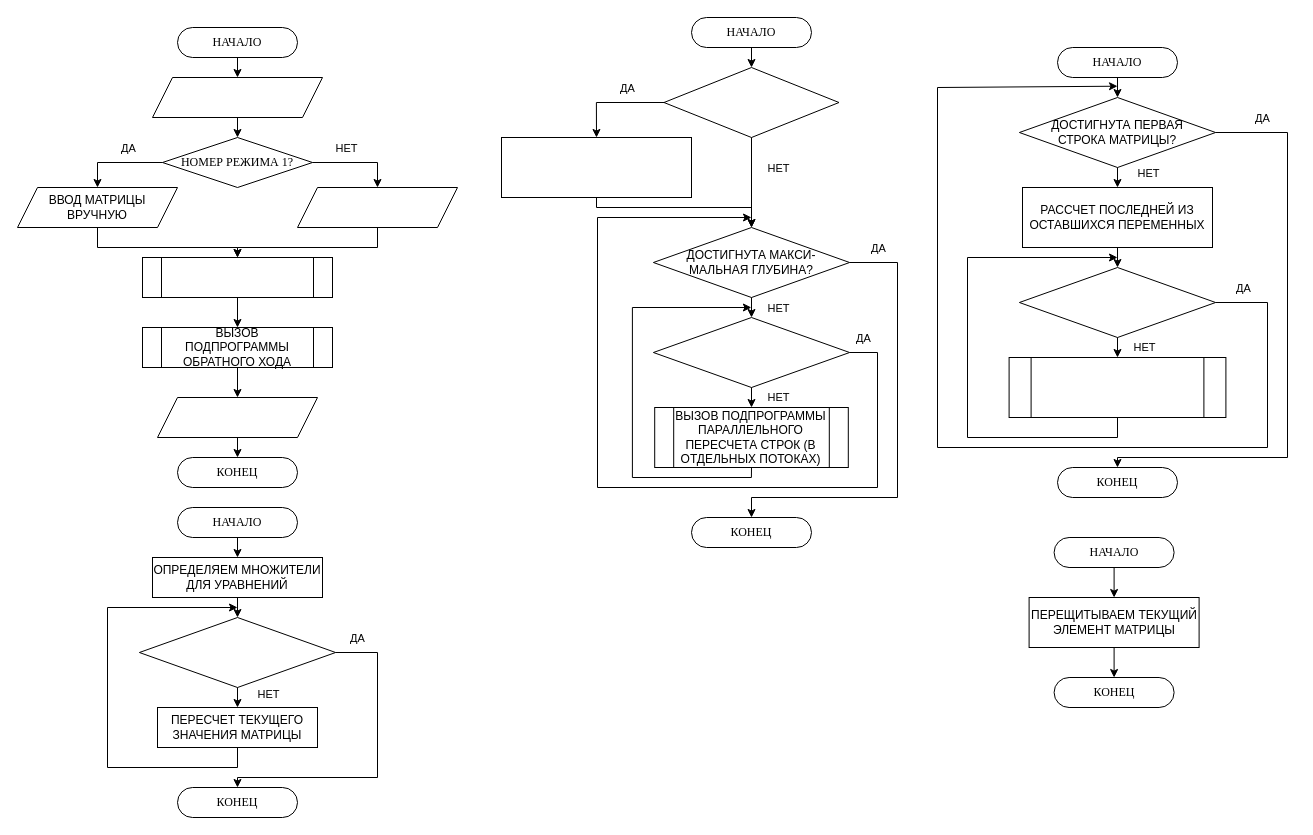
Some shapes in this 1313 by 835 pixel diagram are drawn without their labels. The centre of each missing label's shape, as x and y in pixels:
ВВОД НОМЕРА РЕЖИМА: point (237, 97)
ВВОД НОМЕРА ТЕСТОВОЙ МАТРИЦЫ: point (377, 207)
ВЫВОД РЕЗУЛЬТАТА ВЫЧИСЛЕНИЙ: point (237, 417)
ВЫЗОВ ПОДПРОГРАММЫ ПАРАЛЛЕЛЬНОГО ПЕРЕСЧЕТА ПЕРЕМЕННЫХ (В ОТДЕЛЬНЫХ ПОТОКАХ): point (1117, 387)
ВЫЗОВ ПОДПРОГРАММЫ ПРЯМОГО ХОДА: point (237, 277)
ДОСТИГНУТ ПОСЛЕДНИЙ ЭЛЕМЕНТ В ЛИНИИ?: point (237, 652)
ДОСТИГНУТА ПОСЛЕДНЯЯ ЛИНИЯ В ГЛУБИНУ?: point (751, 352)
ДОСТИГНУТА ПРЕДПОСЛЕДНЯЯ СТРОКА В МАТРИЦЕ?: point (1117, 302)
НАХОДИМ СТРОКУ В КОТОРОЙ ПЕРВЫЙ ЭЛЕМЕНТ НЕ 0 И ПЕРЕМЕЩАЕМ ЭТУ СТРОКУ НАВЕРХ: point (596, 167)
ПЕРВЫЙ ЭЛЕМЕНТ НУЛЕВОЙ?: point (751, 102)
